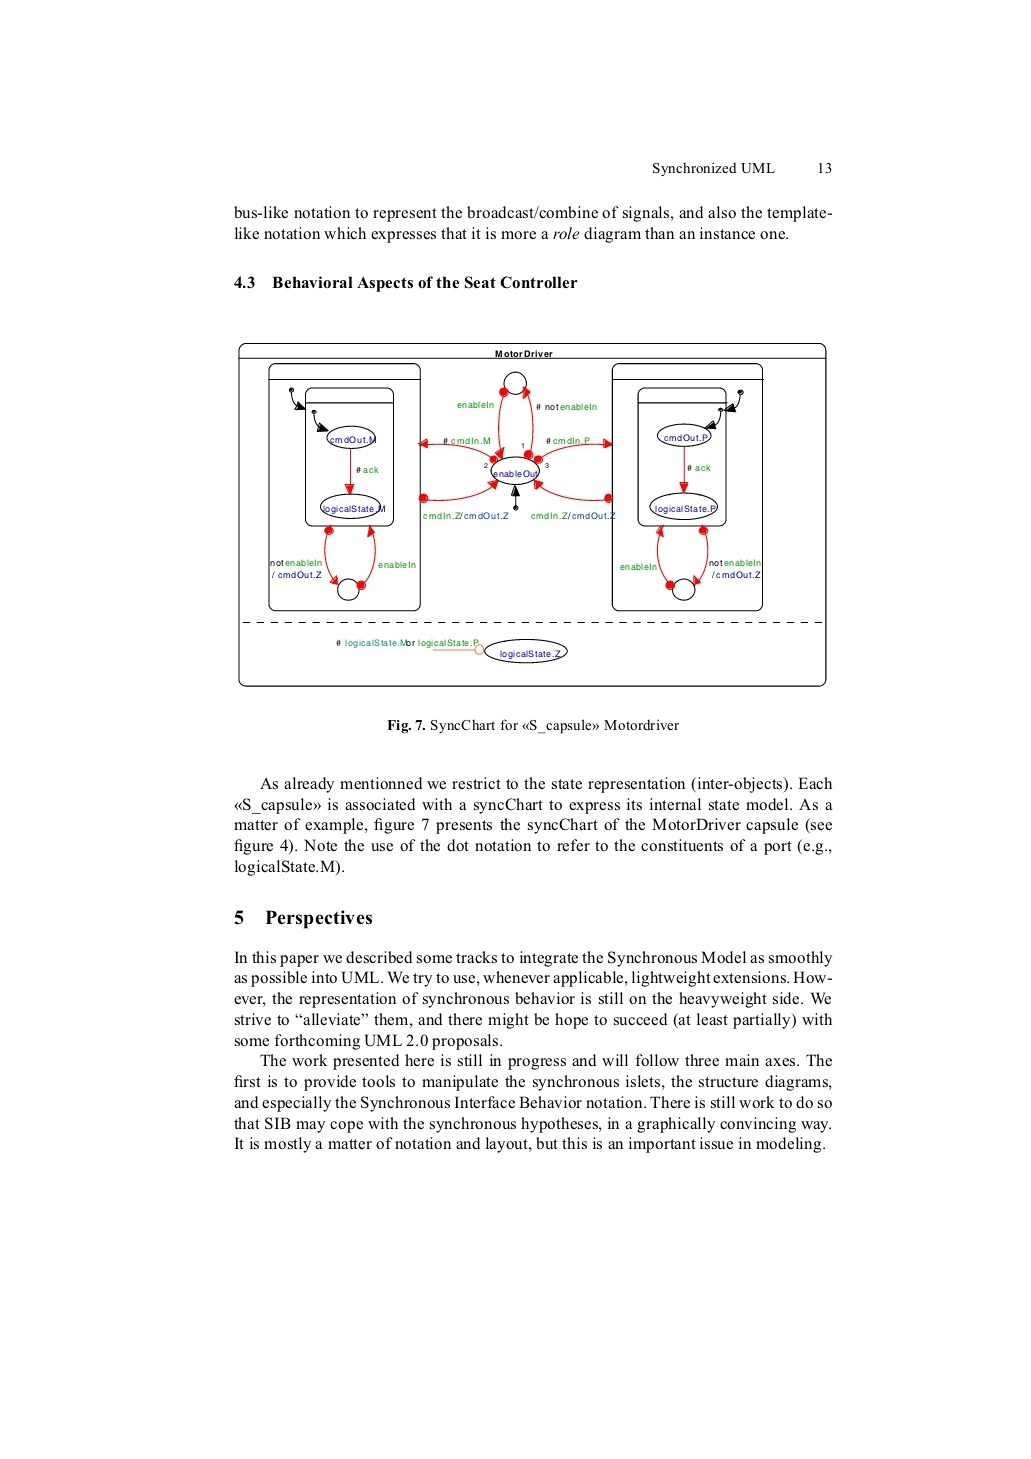figure: (238, 342, 826, 687)
